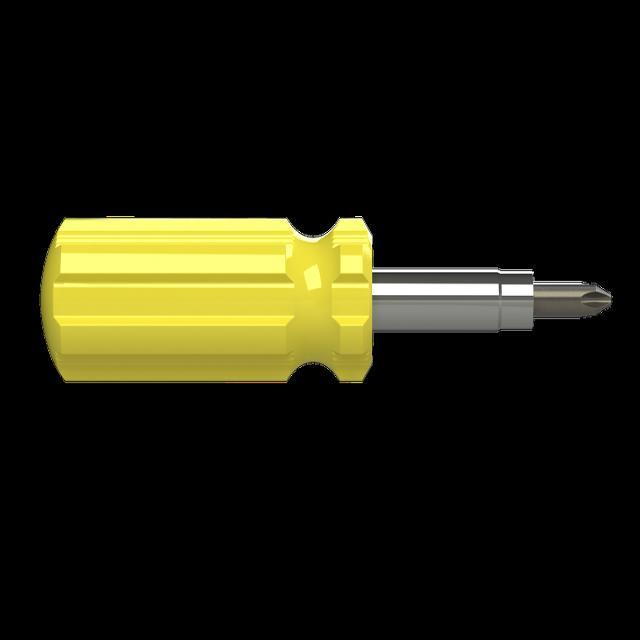screwdriver: (41, 216, 616, 381)
